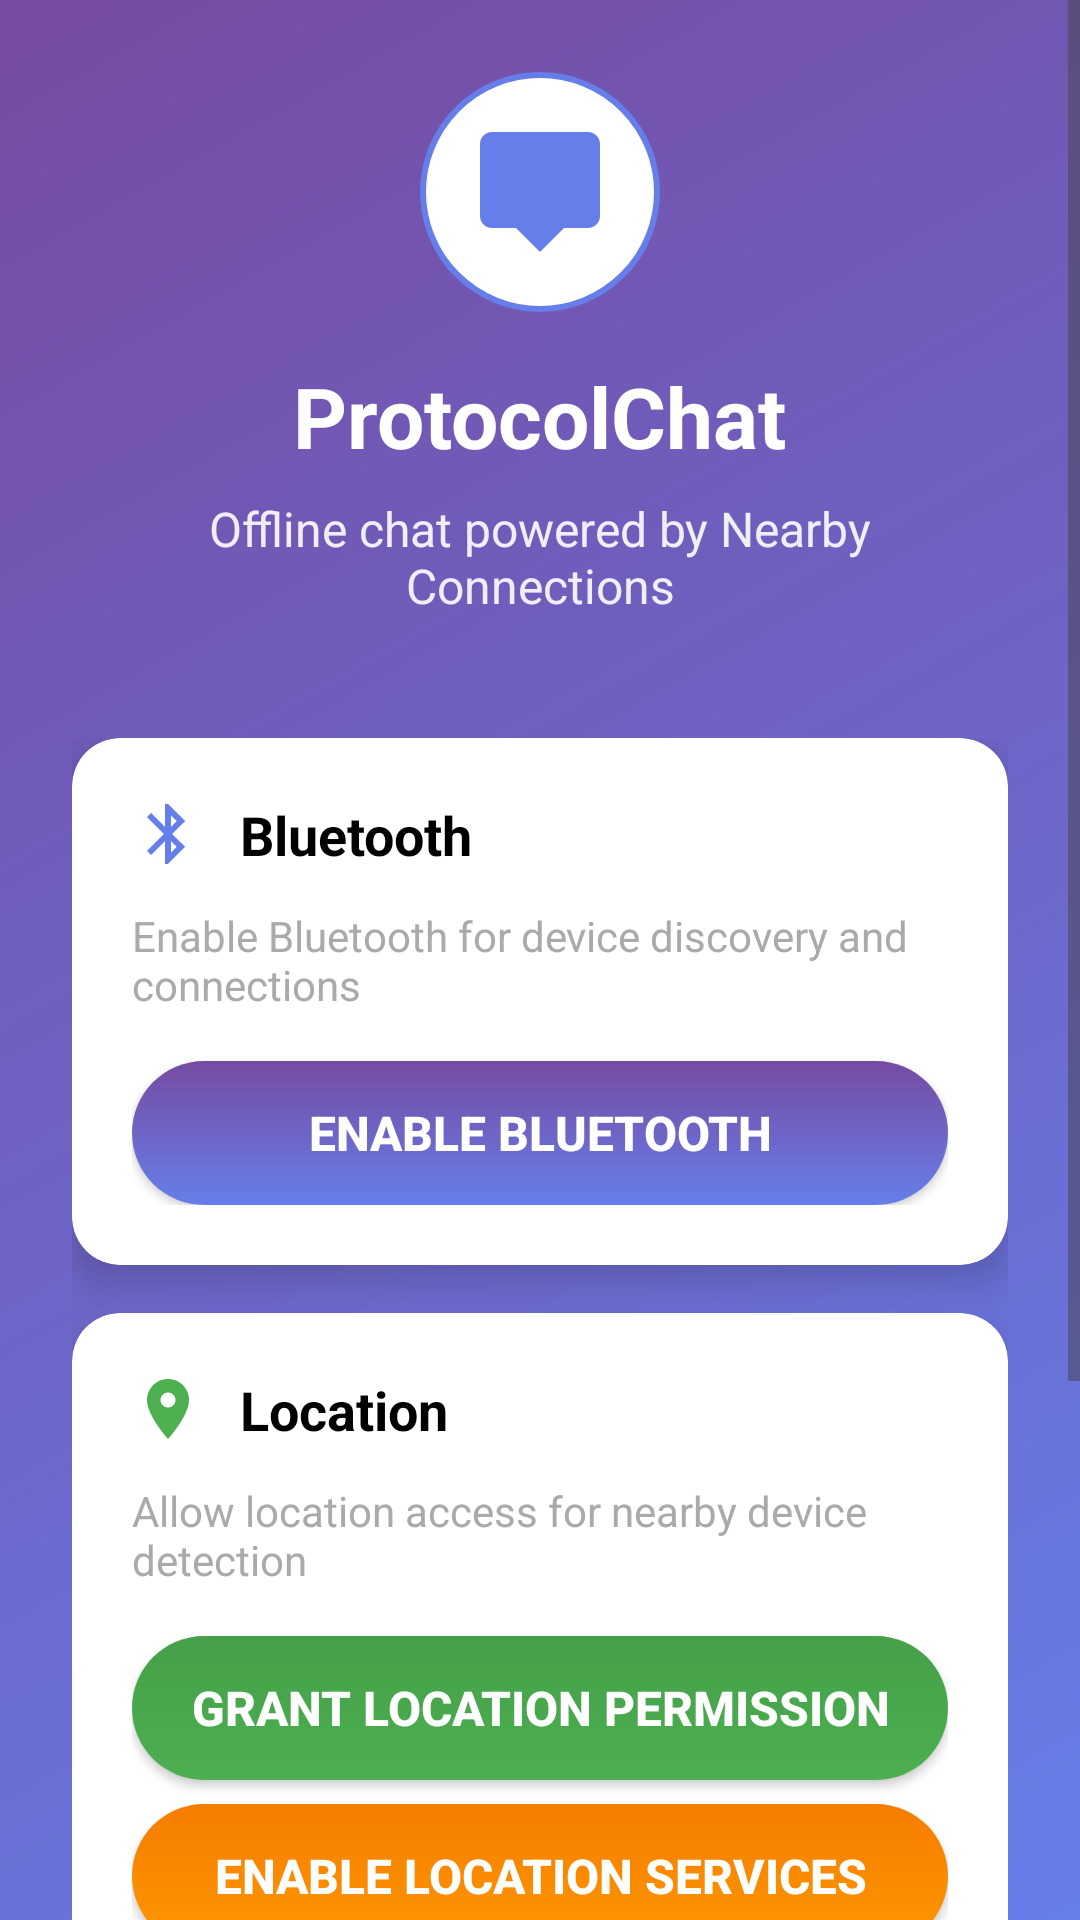

Screen size 1080x1920. Icon name, then its box in pixels as box(x1, y1, x2, y2):
chat bubble: box(420, 72, 660, 312)
